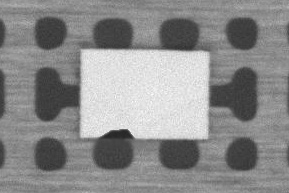DIE_BROKEN: (97, 127, 135, 140)
